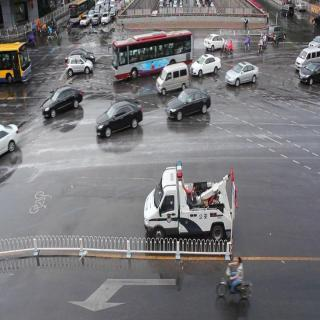BigCar: (105, 30, 193, 81), (0, 34, 31, 89)
Car: (145, 164, 233, 248), (96, 97, 144, 145), (165, 87, 210, 119), (42, 88, 80, 121), (225, 60, 257, 92), (152, 62, 188, 88), (190, 53, 222, 75), (64, 56, 93, 75), (295, 44, 319, 64), (299, 64, 320, 86), (204, 32, 227, 51), (266, 24, 286, 40), (281, 3, 294, 18), (80, 14, 90, 27), (101, 11, 110, 24), (92, 12, 100, 25)
